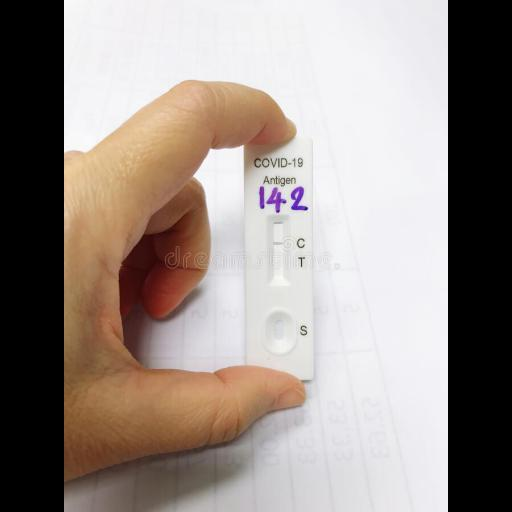Neg: (243, 138, 313, 380)
